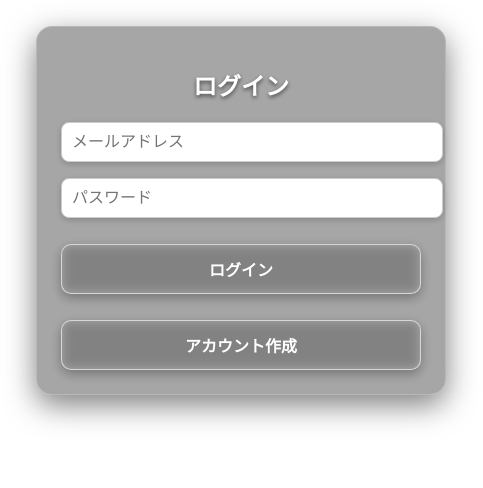
Test: LoginPage › 未入力で送信するとエラーメッセージが表示される
Click the button "ログイン" at [241, 269], box [61, 244, 421, 294]
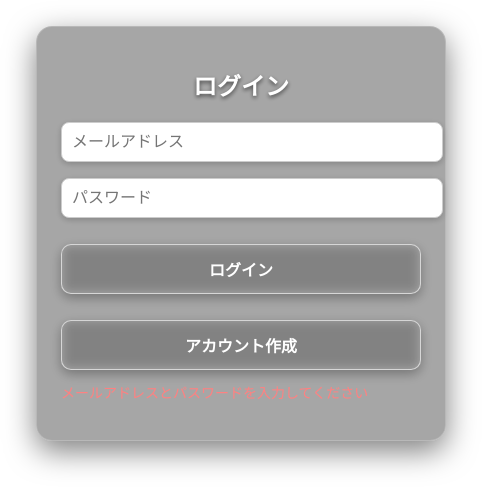
expect the text "メールアドレスとパスワードを入力してください" is shown: met, box [61, 382, 421, 402]
